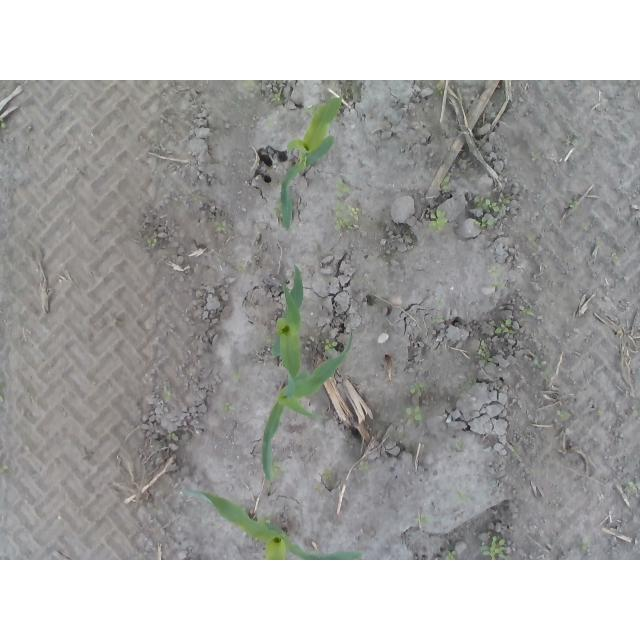Maize: (261, 329, 353, 483), (182, 490, 364, 560), (279, 95, 342, 230), (271, 260, 305, 360)
Weeds: (333, 178, 361, 230), (473, 190, 511, 227), (478, 533, 510, 560), (430, 208, 451, 228), (492, 317, 512, 335), (489, 264, 501, 289), (475, 348, 493, 364), (534, 361, 551, 377), (405, 407, 423, 422), (323, 339, 338, 354), (560, 410, 577, 423), (622, 480, 640, 492), (455, 489, 470, 503), (409, 382, 426, 394), (576, 536, 589, 551), (418, 513, 435, 524), (359, 463, 374, 475), (519, 305, 534, 317), (143, 238, 161, 247), (440, 176, 450, 192), (162, 384, 172, 400), (240, 80, 256, 90), (530, 151, 543, 163), (445, 552, 459, 561), (566, 197, 578, 207), (215, 221, 226, 231), (271, 93, 281, 103), (223, 404, 234, 412), (0, 464, 8, 475), (1, 119, 8, 130), (271, 464, 279, 473), (237, 264, 245, 273), (232, 372, 240, 380), (168, 432, 176, 439)
